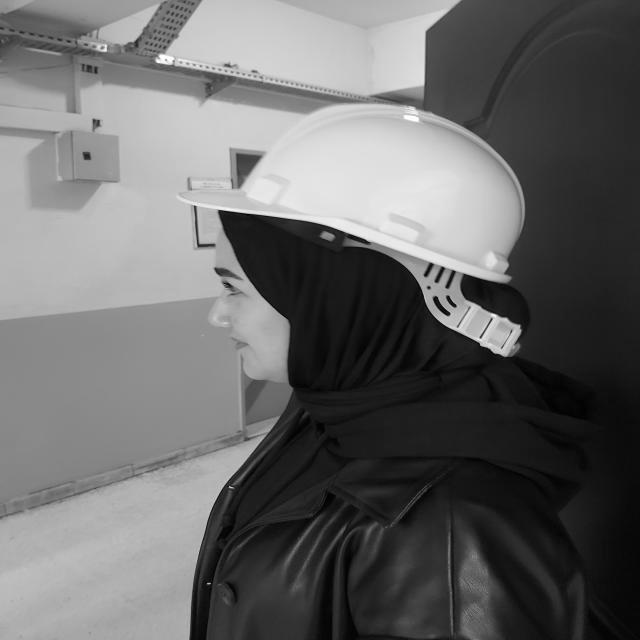construction helmet: (181, 103, 526, 341)
